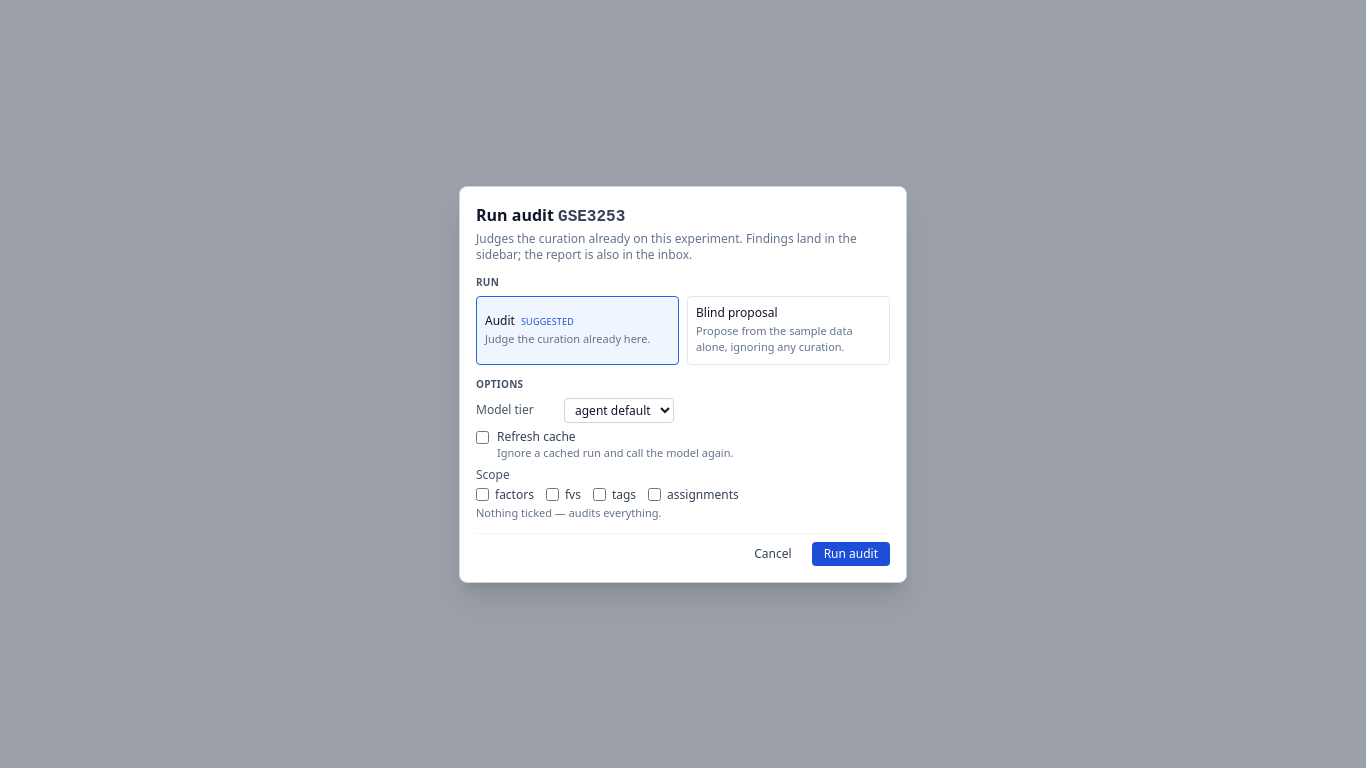
Test: AgentRunDialog — the run selector › warns that a blind proposal will not see the curation that is there
The width and height of the screenshot is (1366, 768).
Expected: the text "strips them first" is not shown
Click the button "Blind proposal": (788, 330) [687,296,890,364]
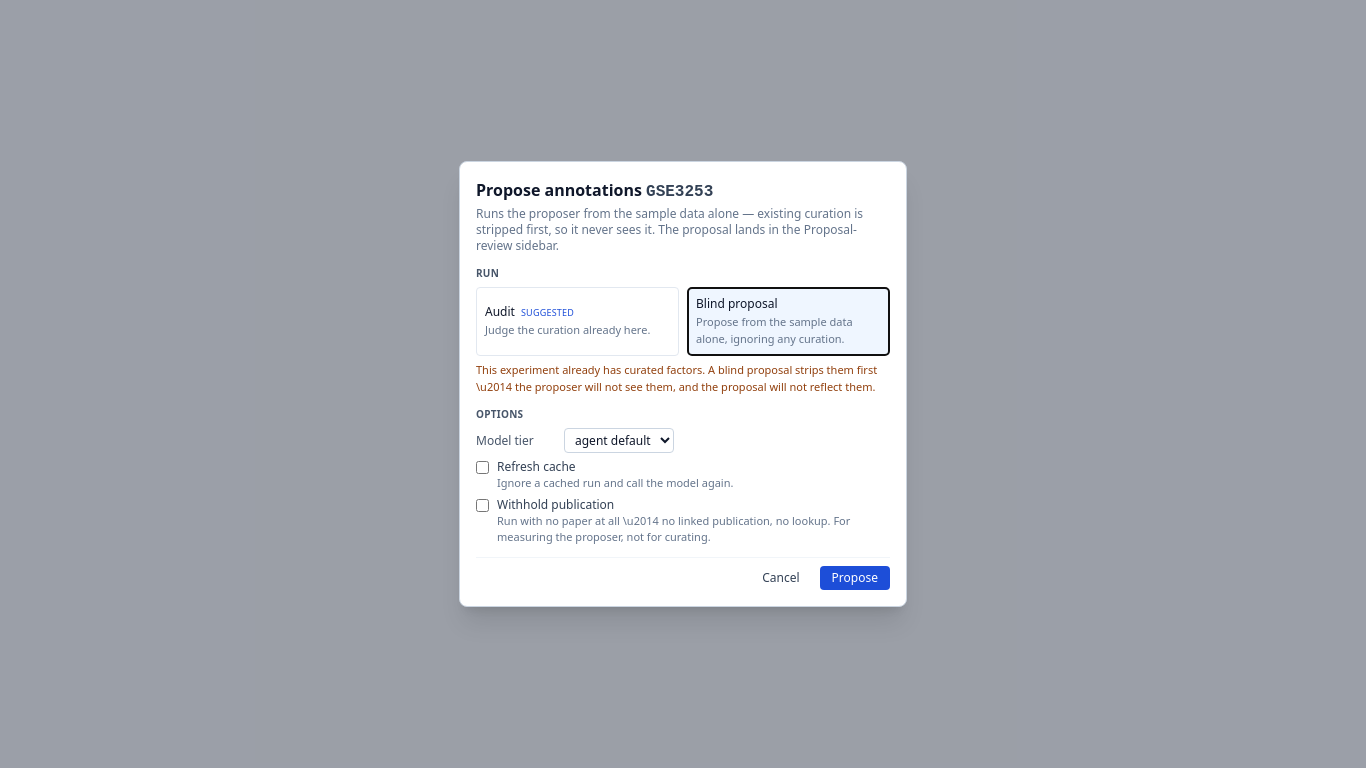
Result: the text "strips them first" is shown at [476,362,877,394]
